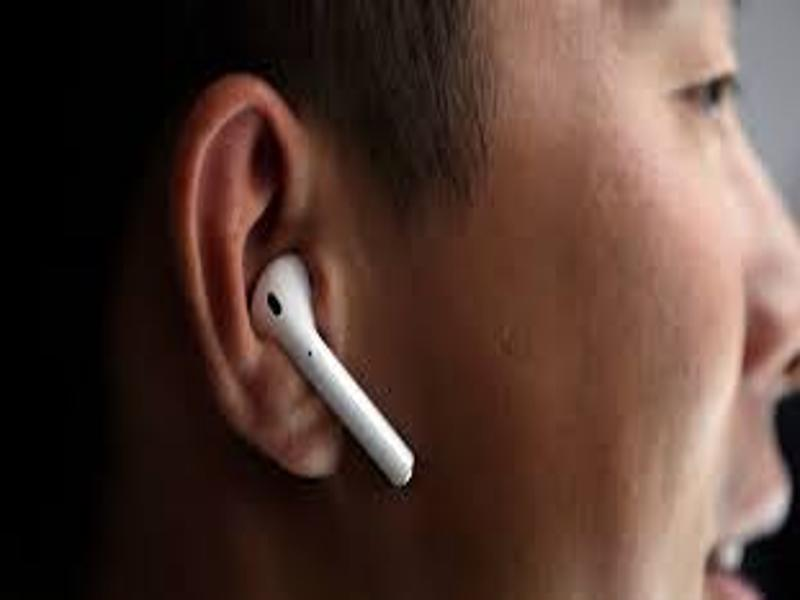headphone: (242, 247, 427, 486)
